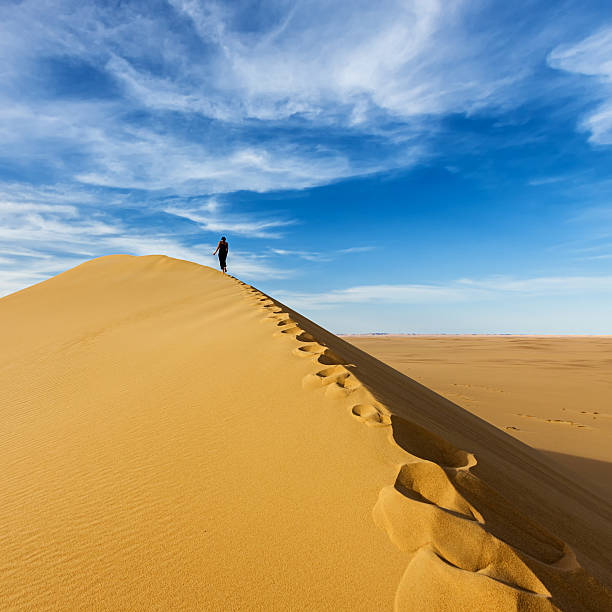human_footprint: (387, 410, 579, 609)
